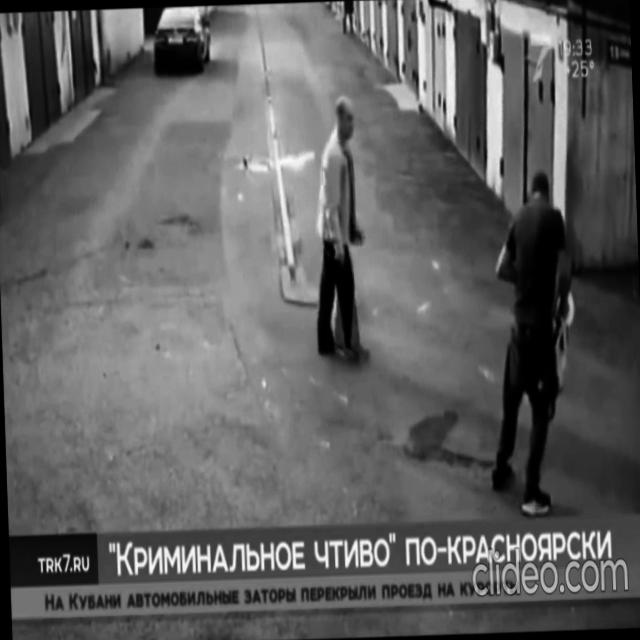gun: (338, 246, 349, 277)
person: (480, 168, 582, 517)
person with a gun: (307, 93, 368, 362)
